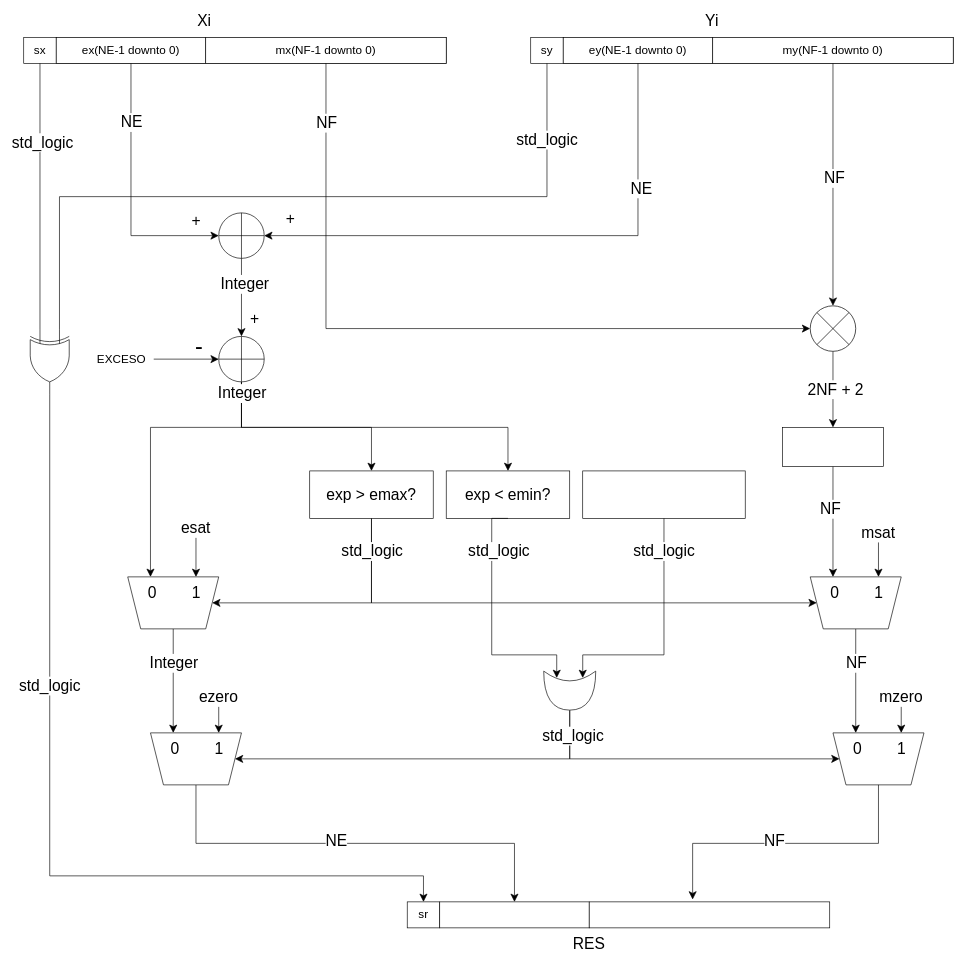
The diagram is 965 pixels wide and 965 high, and some of its shapes have lost their labels. Each missing label, with the box of its shape:
er(NE-1 downto 0): (439, 901, 589, 928)
mr(NF-1 downto 0): (589, 901, 830, 928)
TOMAR BITS (2NF+1 downto NF): (782, 427, 883, 466)
Xi = 00..00 or Yi = 00...00: (582, 470, 745, 518)
